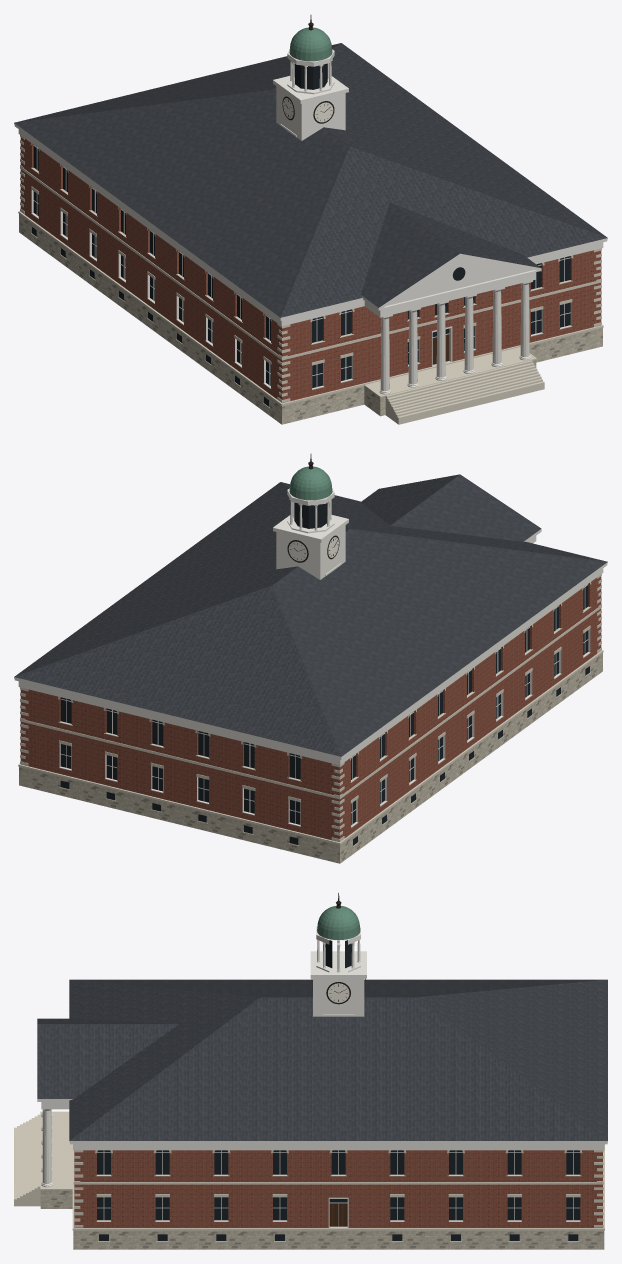
File: courthouse.glb
3 views of the same model, one above another, from view 1: azimuth 30°, elevation 25°; view 2: azimuth 150°, elevation 25°; view 3: azimuth 270°, elevation 25° (orthographic).
Visible parts, largest first — view 1: Courthouse; view 2: Courthouse; view 3: Courthouse.
Part boxes in pixels (x1,y1,x2,y2): Courthouse: (14,15,607,424); Courthouse: (14,454,607,863); Courthouse: (14,893,607,1249).
Bounding box in the file's own units: 38.61 × 31.01 × 60.03.
Materials: 10 (6 with a texture image).
